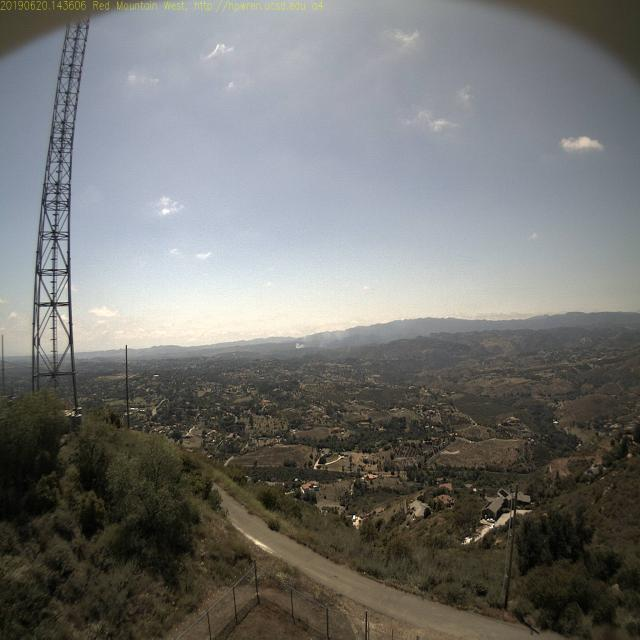smoke: (291, 332, 311, 355)
